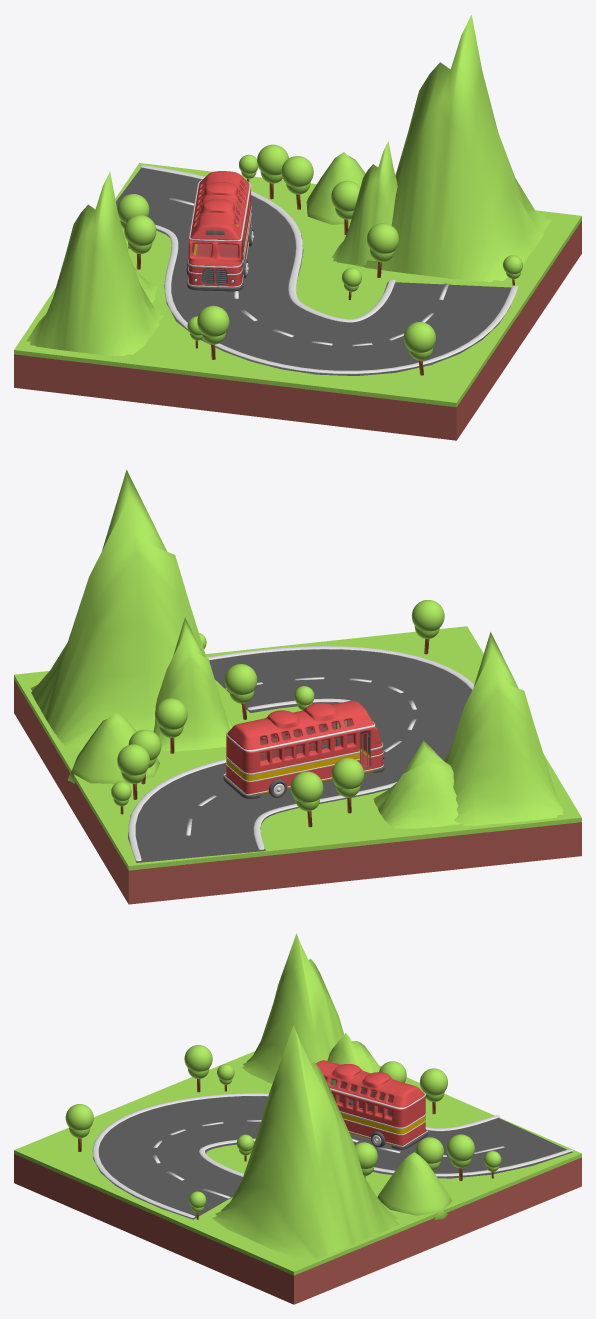
The model's file is highway-3d-animated-icon-369995030716.glb.
The picture shows the model from 3 angles, top to bottom: view 1: azimuth 30°, elevation 25°; view 2: azimuth 150°, elevation 25°; view 3: azimuth 270°, elevation 25°; orthographic projection. The views are drawn at different scales.
Parts seen in each view (by area): view 1: land, mount, road, body, tree.009, tree.015, tree.024, tree.006, tree.018, tree.021, tree.003, tree.012; view 2: mount, land, road, body, tree.015, tree.012, tree.024, tree.003, tree.021, tree.018, tree.009; view 3: land, mount, road, body, tree.018, tree.006, tree.021, tree.012, tree.009, tree.003.
Boxes of the visible parts, left/top/right/bottom form: land: left=14, top=163, right=581, bottom=440; mount: left=26, top=15, right=551, bottom=356; road: left=116, top=165, right=517, bottom=375; body: left=187, top=171, right=253, bottom=291; tree.009: left=281, top=156, right=313, bottom=209; tree.015: left=124, top=215, right=156, bottom=269; tree.024: left=367, top=223, right=398, bottom=277; tree.006: left=197, top=305, right=229, bottom=359; tree.018: left=403, top=322, right=435, bottom=375; tree.021: left=257, top=144, right=288, bottom=199; tree.003: left=331, top=180, right=360, bottom=234; tree.012: left=117, top=194, right=149, bottom=248; mount: left=30, top=469, right=563, bottom=828; land: left=14, top=626, right=581, bottom=904; road: left=128, top=646, right=474, bottom=862; body: left=223, top=700, right=384, bottom=798; tree.015: left=331, top=758, right=364, bottom=813; tree.012: left=290, top=771, right=323, bottom=827; tree.024: left=224, top=664, right=257, bottom=719; tree.003: left=155, top=698, right=187, bottom=753; tree.021: left=117, top=744, right=149, bottom=799; tree.018: left=411, top=600, right=444, bottom=654; tree.009: left=128, top=729, right=161, bottom=784; land: left=14, top=1051, right=581, bottom=1304; mount: left=212, top=933, right=451, bottom=1260; road: left=92, top=1093, right=573, bottom=1219; body: left=315, top=1060, right=428, bottom=1149; tree.018: left=65, top=1104, right=93, bottom=1151; tree.006: left=184, top=1045, right=212, bottom=1092; tree.021: left=446, top=1134, right=474, bottom=1180; tree.012: left=420, top=1068, right=447, bottom=1114; tree.009: left=415, top=1137, right=443, bottom=1170; tree.003: left=355, top=1142, right=377, bottom=1177.
Bounding box in the file's own units: 2.83 × 1.28 × 2.83.
